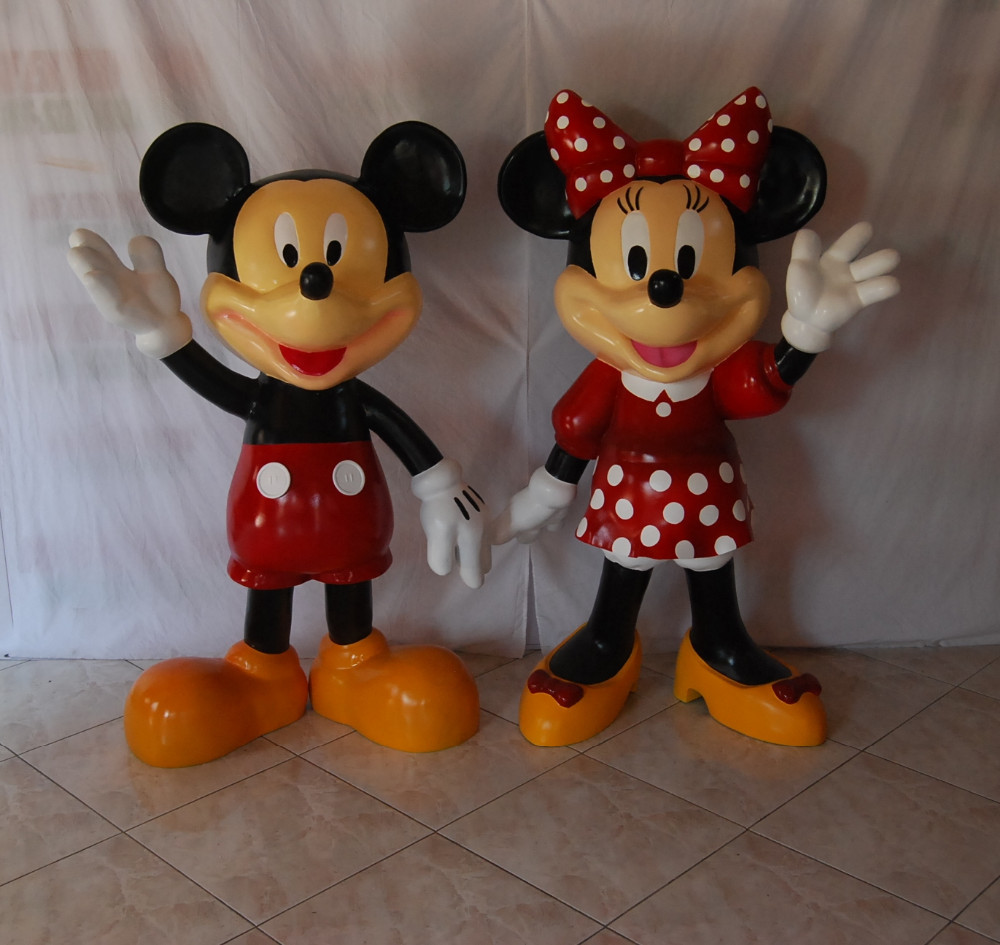Mickey: (133, 119, 474, 397)
